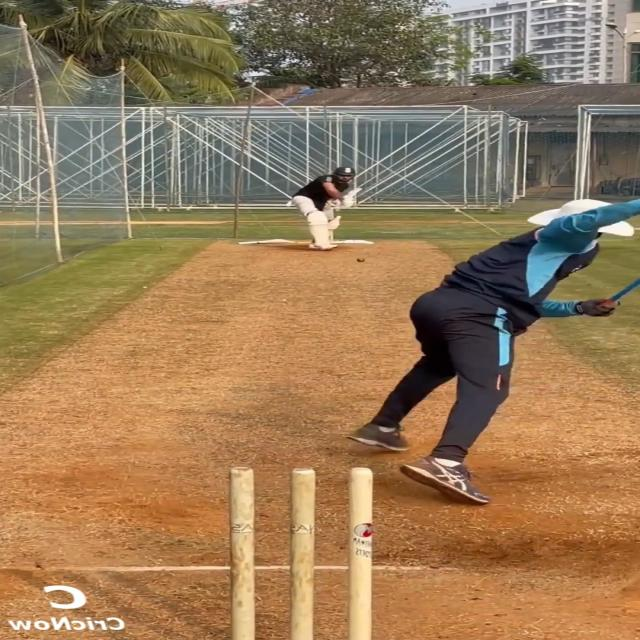ball: (356, 256, 365, 262)
stump: (219, 462, 382, 640)
